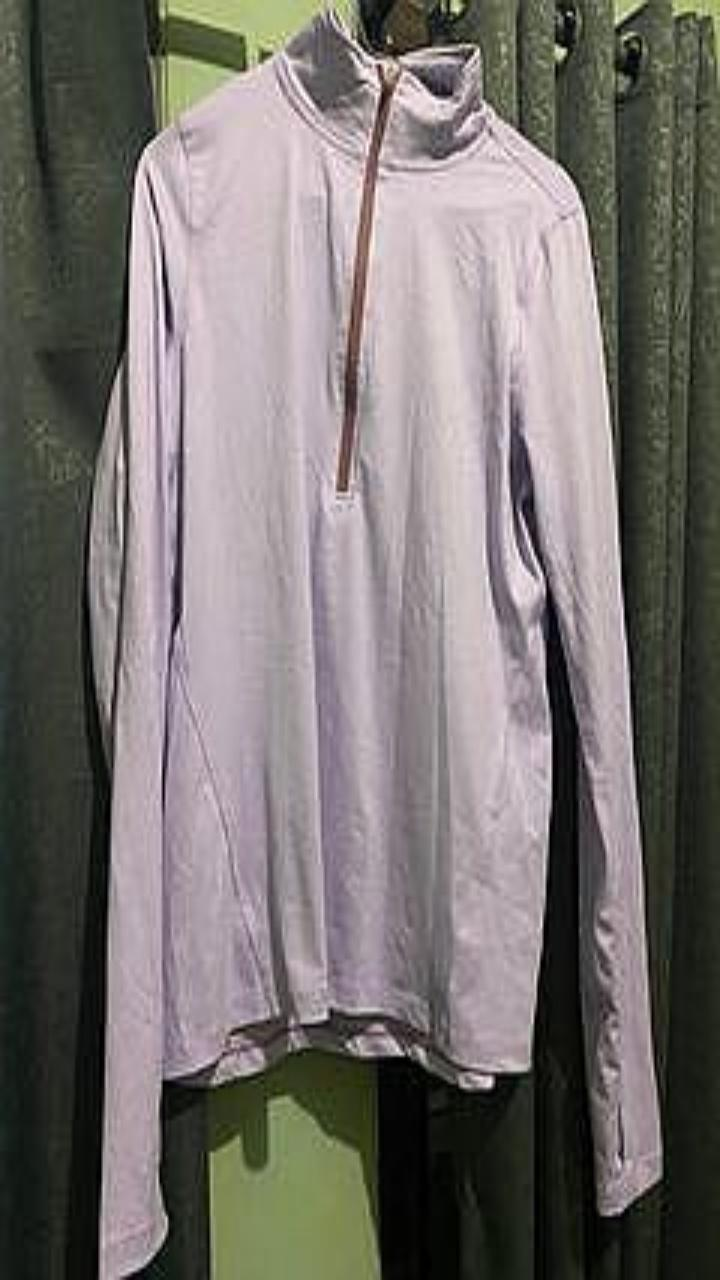Sports_Jacket: (87, 6, 661, 1279)
